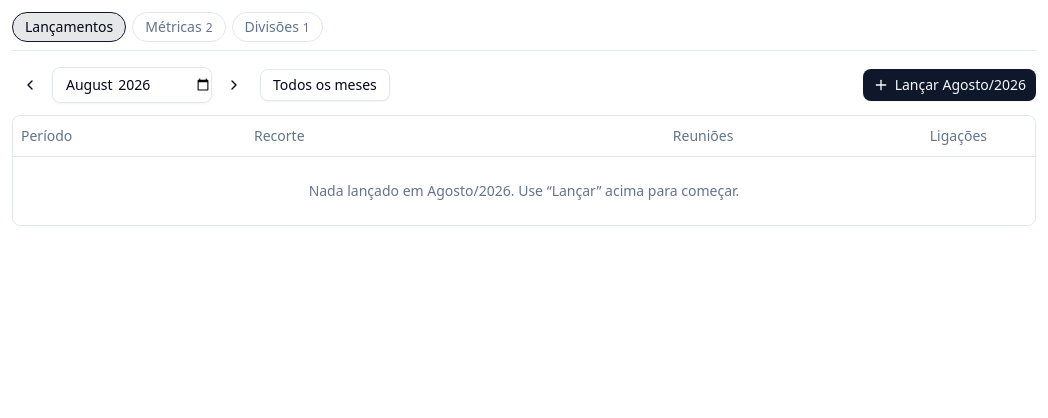
Test case: ManualBaseManager v2 › criar opção aparece na hora (otimista)
This screenshot has width=1048, height=418.
Click the tab "Divisões1" at x=277, y=27, box [232, 12, 323, 42]
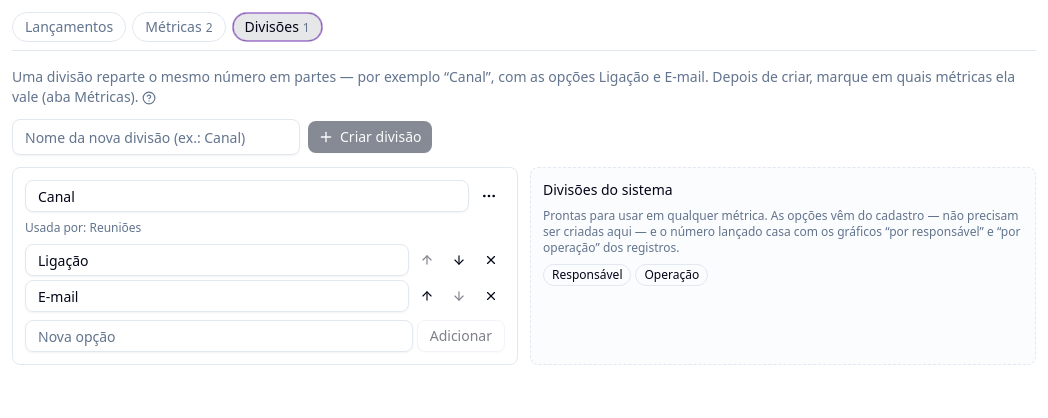
Type "WhatsApp" into the field named "Nova opção em Canal" at x=219, y=336, box [25, 320, 413, 352]
Then press Enter
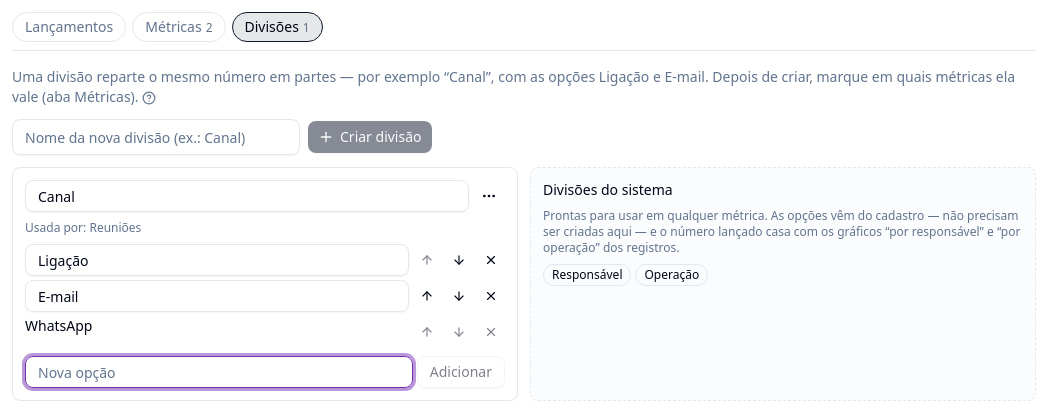
Expected: the text "WhatsApp" is shown, [25, 316, 92, 335]
